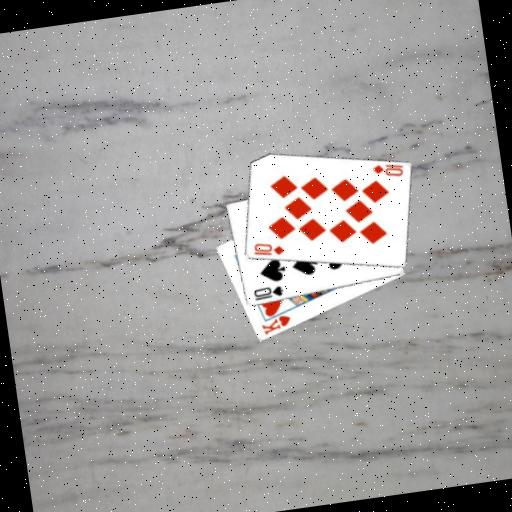10D: (369, 158, 406, 182), (249, 238, 286, 261)
10S: (250, 282, 286, 302)
KH: (257, 312, 294, 338)
